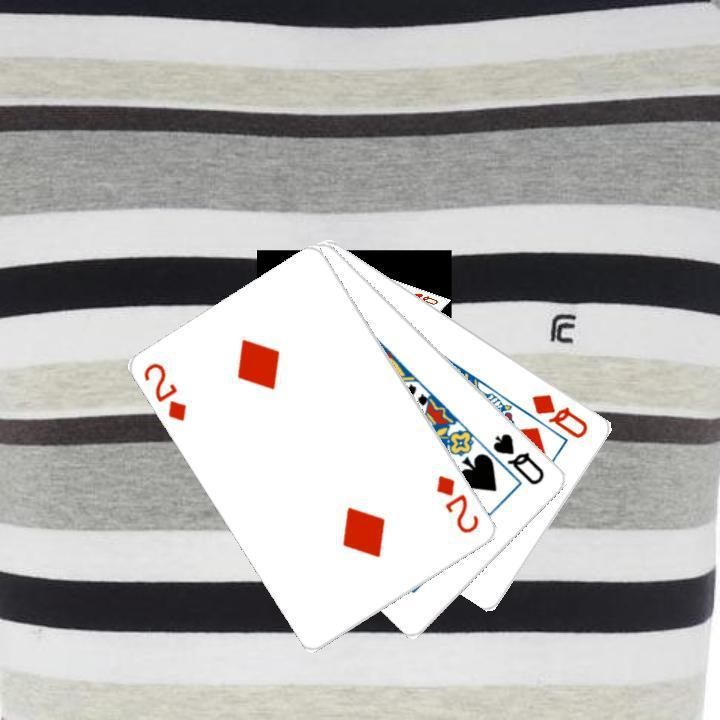2: (139, 358, 190, 424), (432, 470, 482, 536)
Q: (489, 429, 547, 487), (527, 389, 591, 441)
